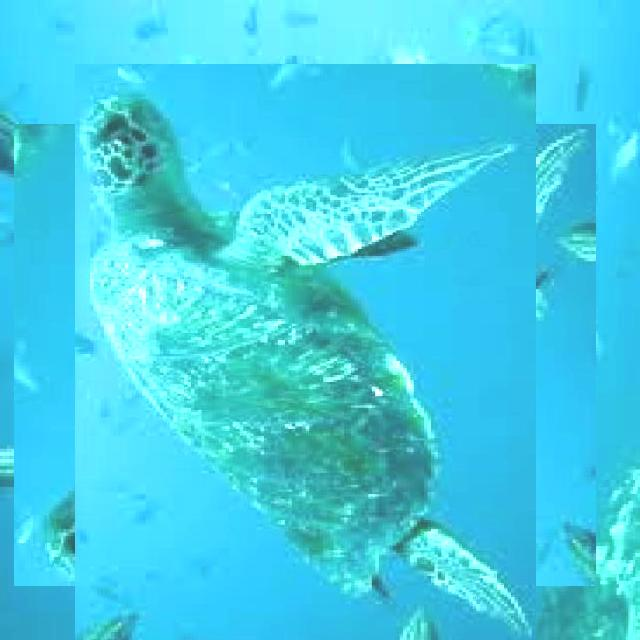Sea turtle: (44, 94, 566, 616)
